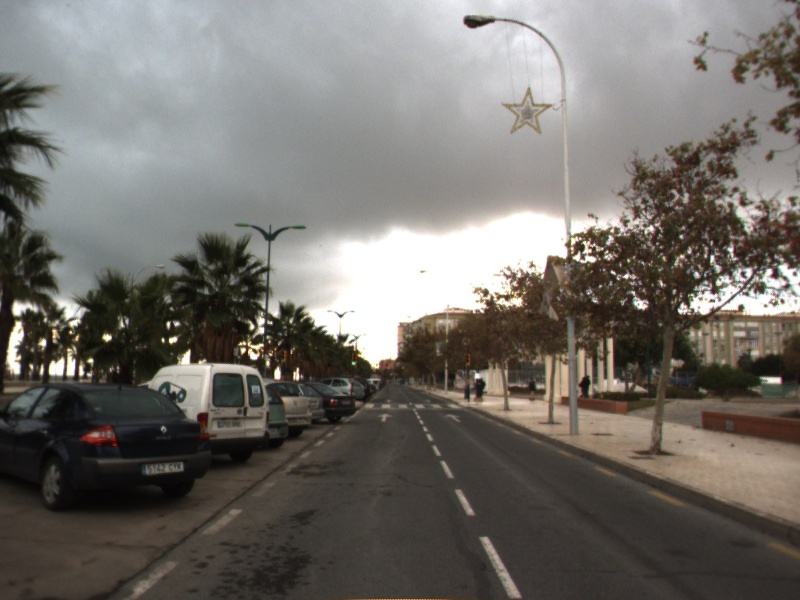STRAIGHT: (443, 412, 464, 424), (375, 412, 396, 423)
